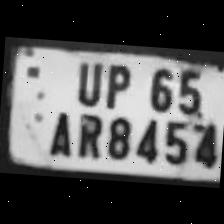4: (188, 116, 220, 167), (130, 112, 159, 163)
5: (158, 112, 190, 165), (172, 66, 205, 116)
6: (142, 62, 176, 113)
8: (102, 109, 133, 160)
A: (43, 104, 74, 157)
P: (98, 58, 134, 108)
R: (70, 107, 104, 158)
U: (69, 55, 105, 106)
